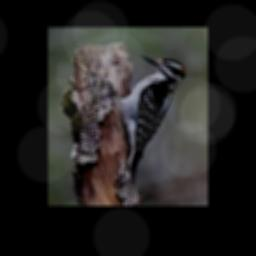Woodpecker: (118, 55, 185, 180)
